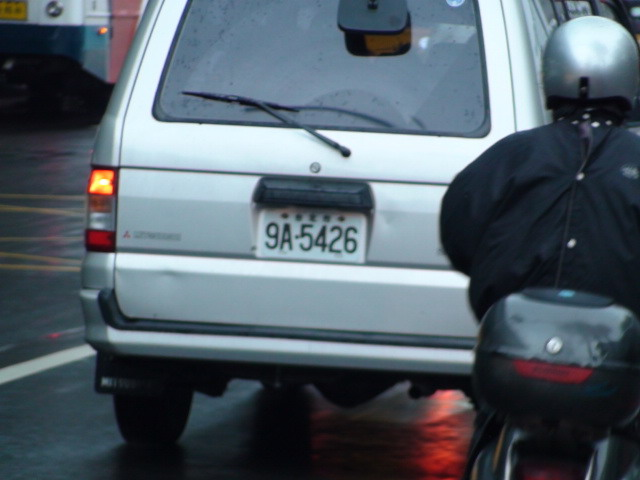plate: (260, 208, 362, 264)
